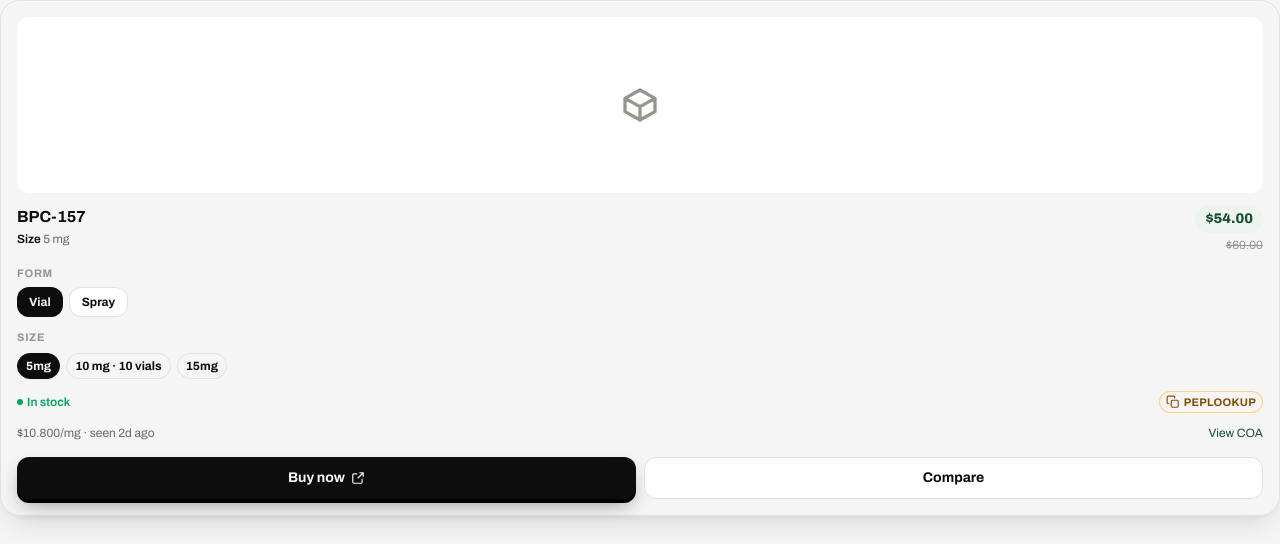
Test case: OfferVariantCard › says when the chosen option is out of stock and hides a COA it does not have
Click the button "15mg".
click(202, 366)  # box [177,353,227,379]
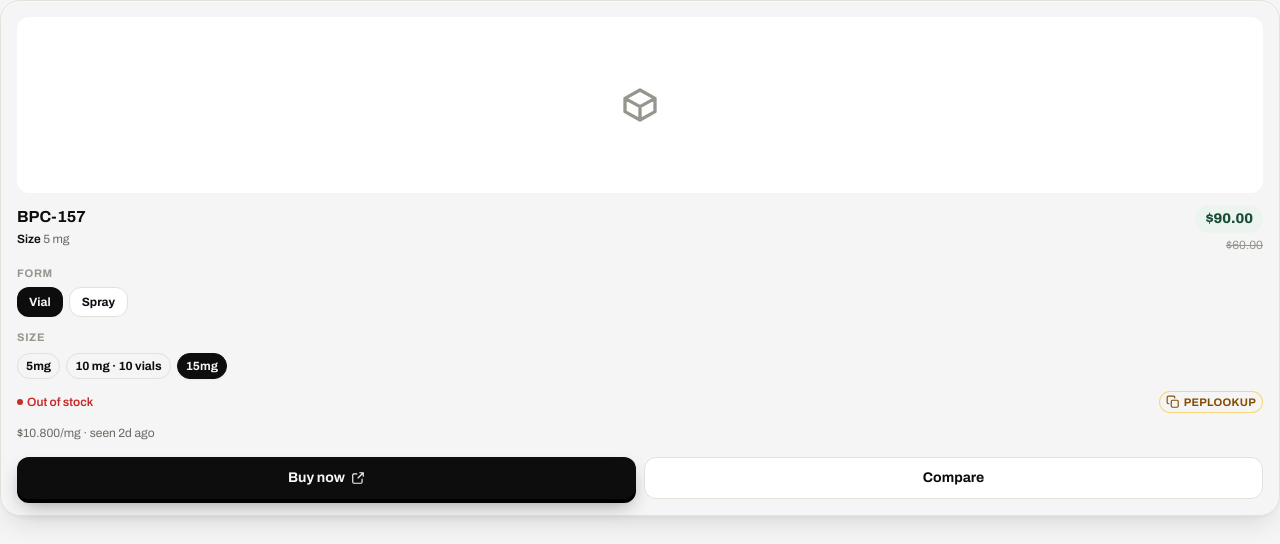
Now the text "Out of stock" is shown, box [17,394,93,410]
Now the link "View COA" is gone
